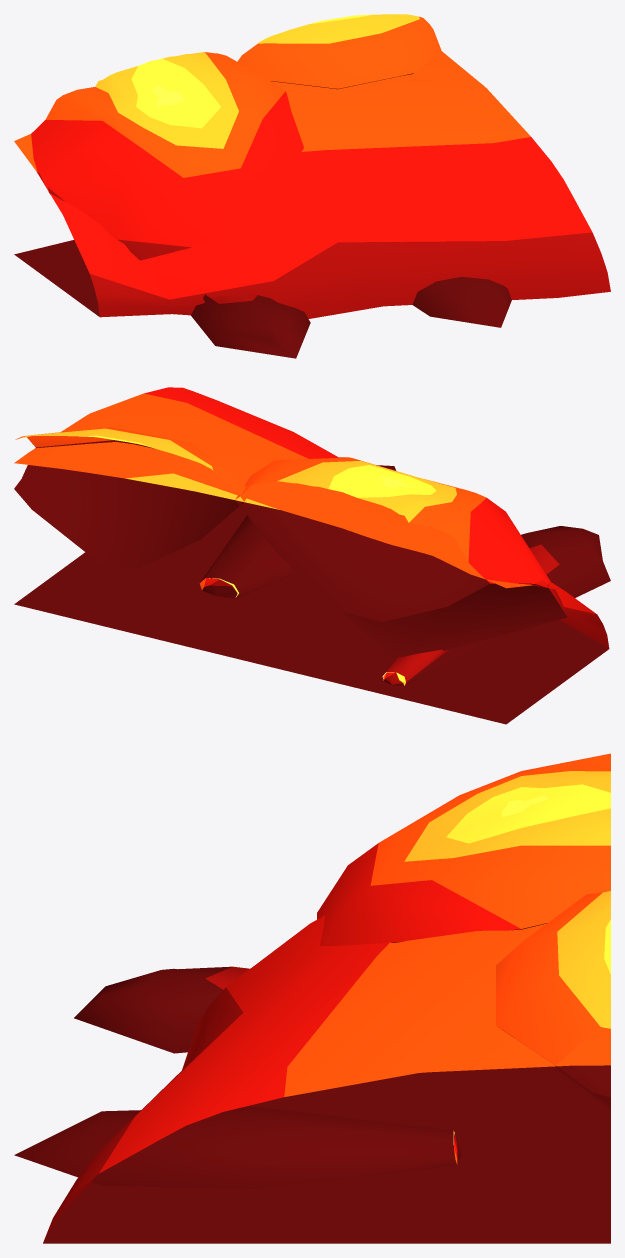
The model's file is shot_dflame_30.glb.
3 views of the same model, one above another, from view 1: azimuth 30°, elevation 25°; view 2: azimuth 150°, elevation 25°; view 3: azimuth 270°, elevation 25° (orthographic). The views are drawn at different scales.
Parts seen in each view (by area): view 1: dflame_wall_bed_b30, dflame_wall_billow13_b30, dflame_wall_billow6_b30, dflame_wall_tongue2_b30, dflame_wall_tongue5_b30; view 2: dflame_wall_bed_b30, dflame_wall_billow13_b30, dflame_wall_billow6_b30, dflame_wall_tongue2_b30, dflame_wall_tongue5_b30; view 3: dflame_wall_bed_b30, dflame_wall_billow13_b30, dflame_wall_tongue5_b30, dflame_wall_billow6_b30, dflame_wall_tongue2_b30.
Part boxes in pixels (x1,y1,x2,y2): dflame_wall_bed_b30: (14,51,610,318); dflame_wall_billow13_b30: (31,52,303,260); dflame_wall_billow6_b30: (237,14,441,89); dflame_wall_tongue2_b30: (190,294,310,358); dflame_wall_tongue5_b30: (412,276,511,327); dflame_wall_bed_b30: (14,387,609,724); dflame_wall_billow13_b30: (235,457,567,660); dflame_wall_billow6_b30: (14,427,250,569); dflame_wall_tongue2_b30: (382,526,610,686); dflame_wall_tongue5_b30: (199,465,396,598); dflame_wall_bed_b30: (43,915,610,1243); dflame_wall_billow13_b30: (317,753,610,946); dflame_wall_tongue5_b30: (14,1107,461,1188); dflame_wall_billow6_b30: (496,891,610,1112); dflame_wall_tongue2_b30: (74,966,249,1053).
Size of the model in its own units: 12 by 4.48 by 10.
